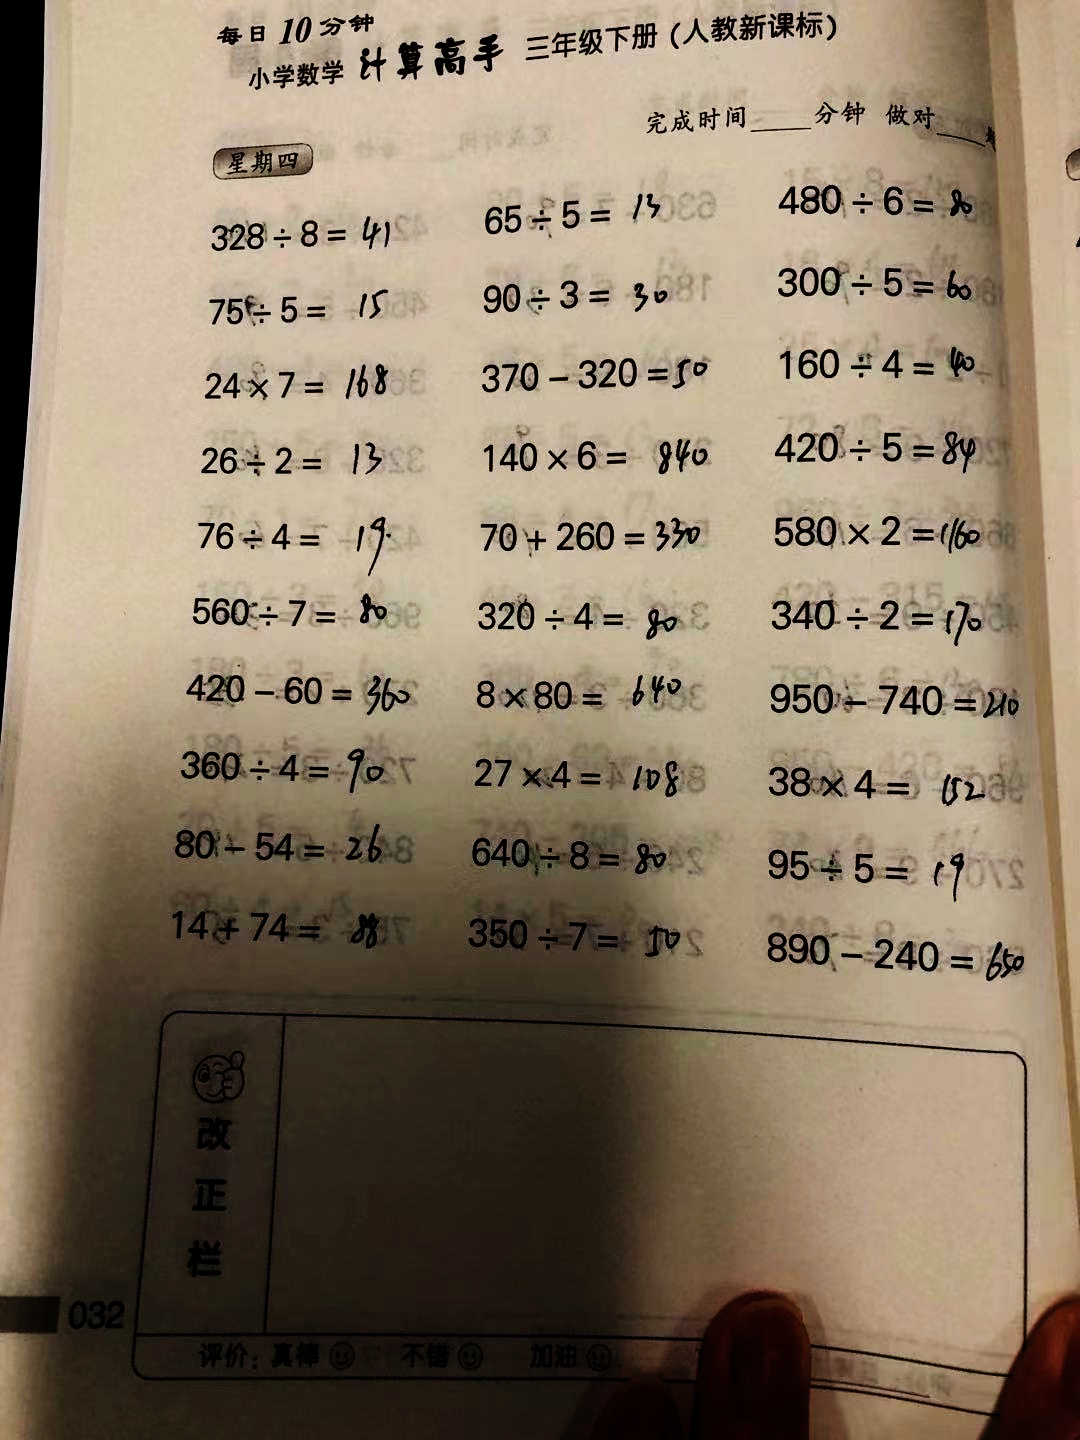equation: (756, 924, 1045, 990), (171, 507, 411, 579), (157, 895, 405, 962), (745, 841, 996, 907), (453, 587, 714, 647), (171, 662, 410, 727), (170, 813, 408, 878), (754, 759, 1009, 818), (748, 676, 1036, 727), (453, 662, 708, 719), (470, 345, 728, 399), (450, 513, 711, 565), (447, 752, 708, 804), (765, 259, 996, 316), (174, 738, 402, 796), (759, 510, 1011, 561), (456, 915, 694, 968), (476, 268, 697, 324), (461, 828, 691, 881), (776, 175, 993, 230), (761, 425, 1002, 475), (761, 593, 990, 645), (172, 359, 408, 407), (185, 213, 405, 264), (467, 435, 727, 478), (767, 342, 1011, 388), (193, 282, 402, 334), (185, 590, 400, 639), (182, 430, 387, 478), (473, 196, 685, 238)
